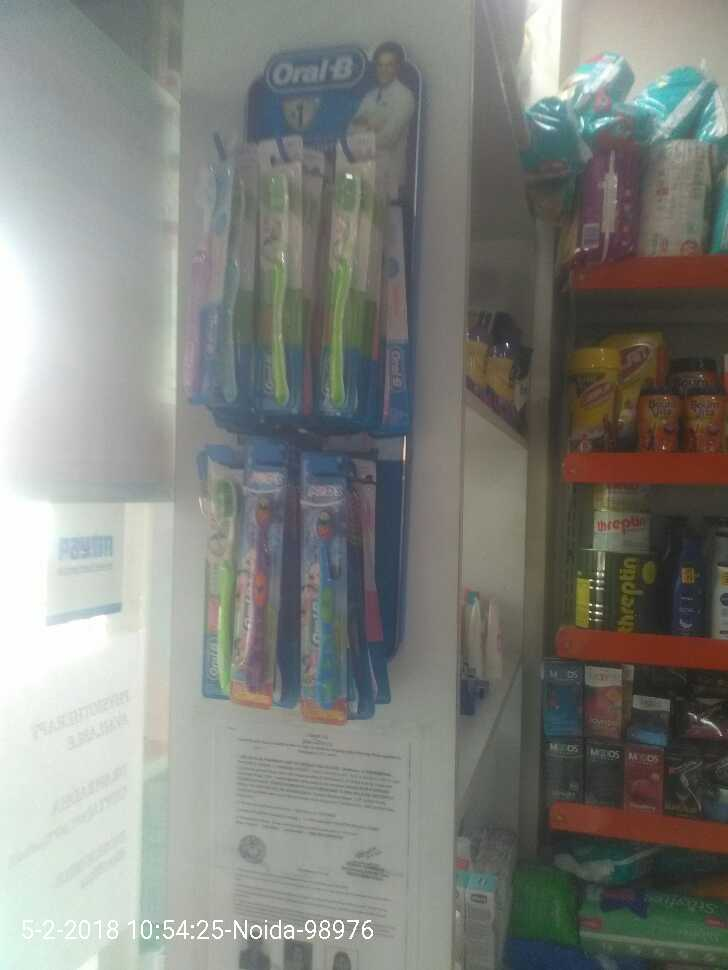oralb: (312, 163, 372, 426), (170, 158, 231, 410), (250, 165, 295, 410), (245, 468, 289, 707), (198, 457, 233, 701), (312, 479, 348, 710)
